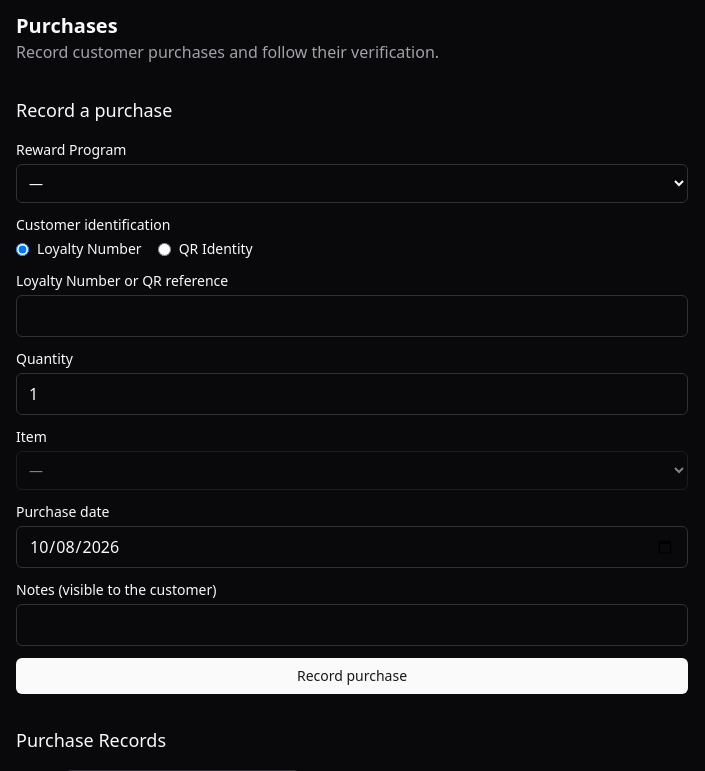
Test: PurchaseRecordsPage › offers a named item option, exposes no UUID, has no free-text item field, and pre-selects a single item
Select "Coffees" in the dropdown labelled "Reward Program" at (352, 184), box [16, 164, 688, 203]
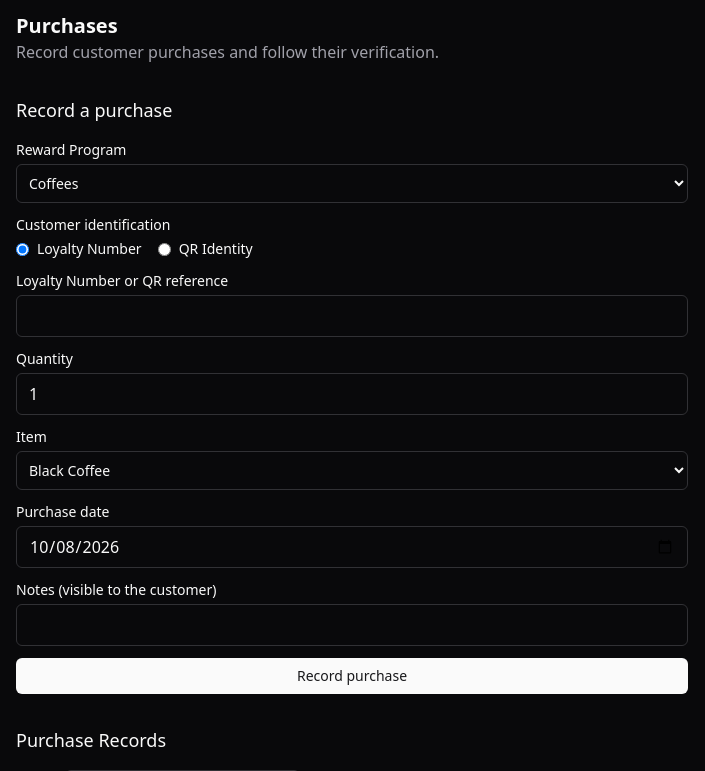
Expected: the dropdown labelled "Item" shows "Black Coffee", [16, 451, 688, 490]
